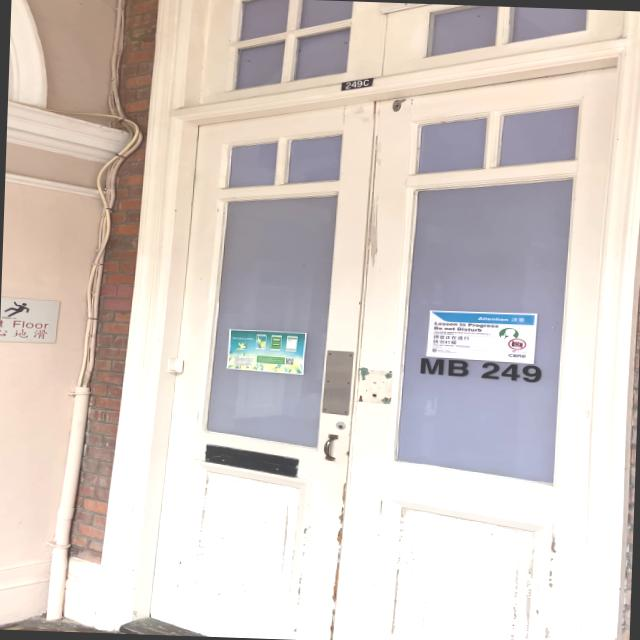room249c: (334, 72, 378, 94)
room249cWindow: (416, 352, 548, 389)
